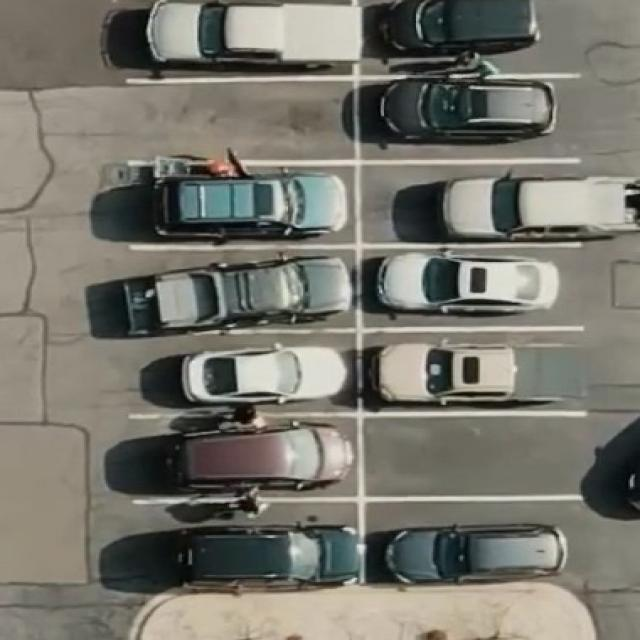space-empty: (122, 72, 356, 166), (362, 410, 588, 500)
space-occupied: (99, 497, 364, 595), (356, 158, 622, 248), (110, 240, 357, 336), (360, 322, 596, 416), (116, 412, 359, 501), (360, 494, 583, 588), (125, 157, 357, 245), (356, 67, 574, 160), (116, 330, 356, 414), (358, 242, 582, 329), (118, 1, 357, 80), (362, 0, 544, 64)
